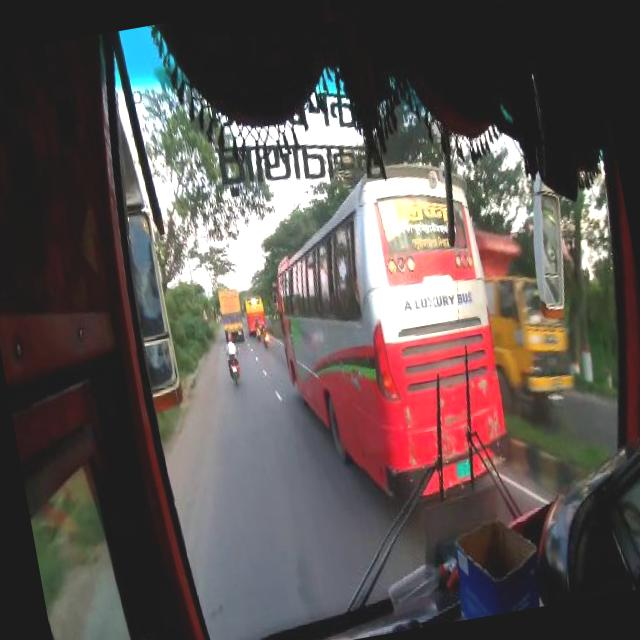bus: (255, 156, 517, 516), (239, 292, 267, 334)
motorcycle: (220, 332, 242, 384), (258, 318, 268, 344), (252, 316, 262, 339)
truck: (473, 218, 585, 422), (215, 282, 242, 338)
